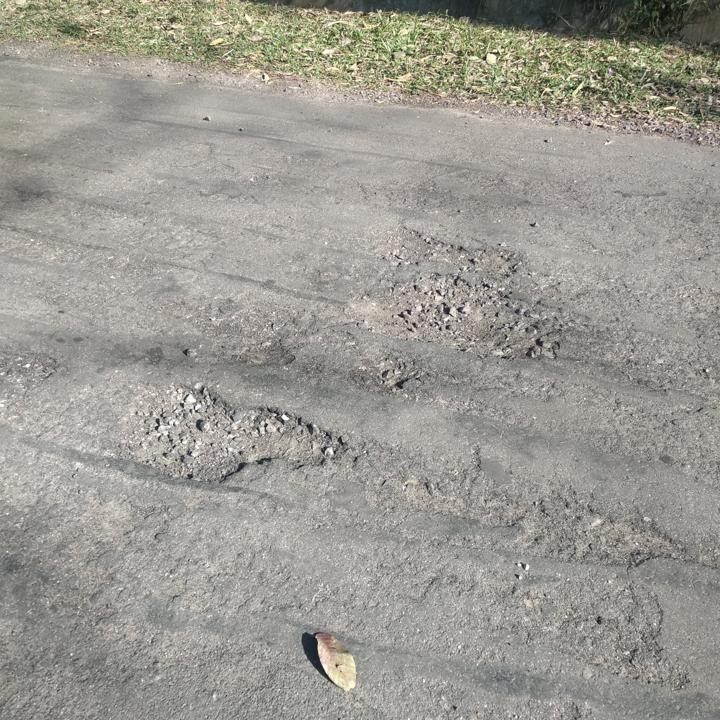pothole: (121, 377, 351, 483), (354, 272, 582, 356), (371, 223, 527, 277), (368, 354, 419, 395)
